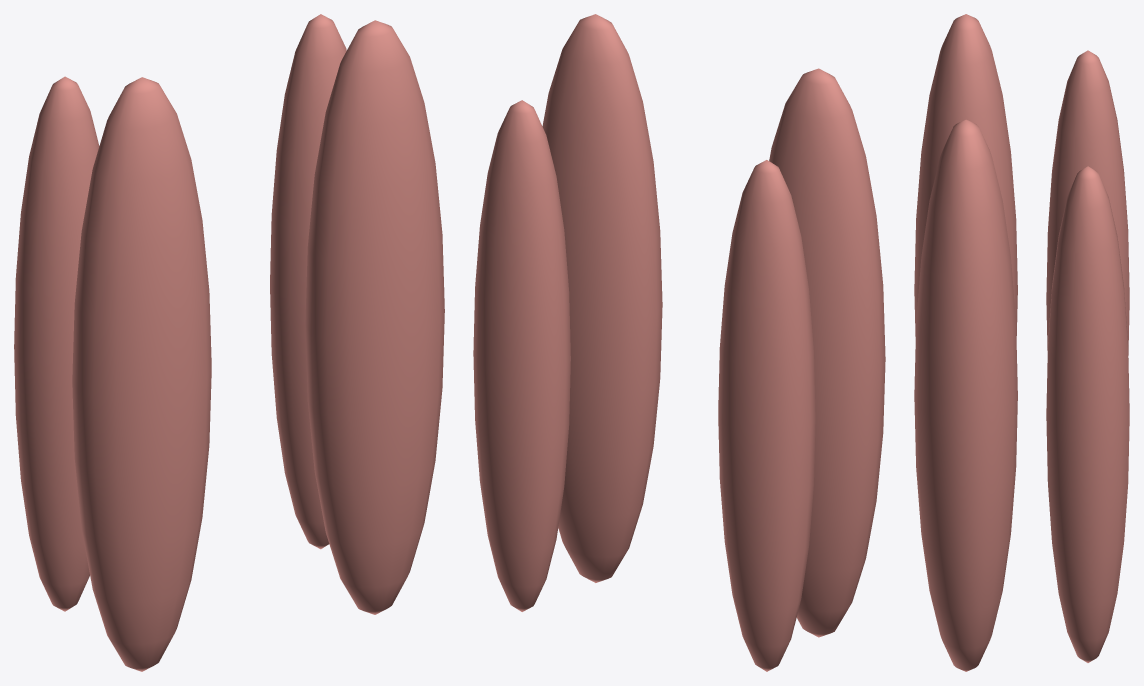
Rendered from muscles-lower-limb.glb.
3 views of the same model, side by side, from view 1: azimuth 30°, elevation 25°; view 2: azimuth 150°, elevation 25°; view 3: azimuth 270°, elevation 25° (orthographic). The views are drawn at different scales.
Parts seen in each view (by area): view 1: Quadriceps femoris muscle.L, Quadriceps femoris muscle.R, Biceps femoris muscle.R, Biceps femoris muscle.L; view 2: Quadriceps femoris muscle.L, Biceps femoris muscle.R, Biceps femoris muscle.L, Quadriceps femoris muscle.R; view 3: Quadriceps femoris muscle.L, Biceps femoris muscle.L, Quadriceps femoris muscle.R, Biceps femoris muscle.R.
Part boxes in pixels (left/top/right/bottom): Quadriceps femoris muscle.L: left=305, top=20, right=444, bottom=614; Quadriceps femoris muscle.R: left=72, top=77, right=211, bottom=671; Biceps femoris muscle.R: left=14, top=76, right=99, bottom=611; Biceps femoris muscle.L: left=270, top=14, right=346, bottom=549; Quadriceps femoris muscle.L: left=542, top=14, right=662, bottom=582; Biceps femoris muscle.R: left=718, top=160, right=815, bottom=671; Biceps femoris muscle.L: left=473, top=100, right=570, bottom=611; Quadriceps femoris muscle.R: left=769, top=68, right=885, bottom=637; Quadriceps femoris muscle.L: left=914, top=119, right=1017, bottom=671; Biceps femoris muscle.L: left=1046, top=166, right=1129, bottom=662; Quadriceps femoris muscle.R: left=914, top=14, right=1017, bottom=336; Biceps femoris muscle.R: left=1046, top=50, right=1129, bottom=355.
Size of the model in its own units: 0.254 by 0.4 by 0.1413.
